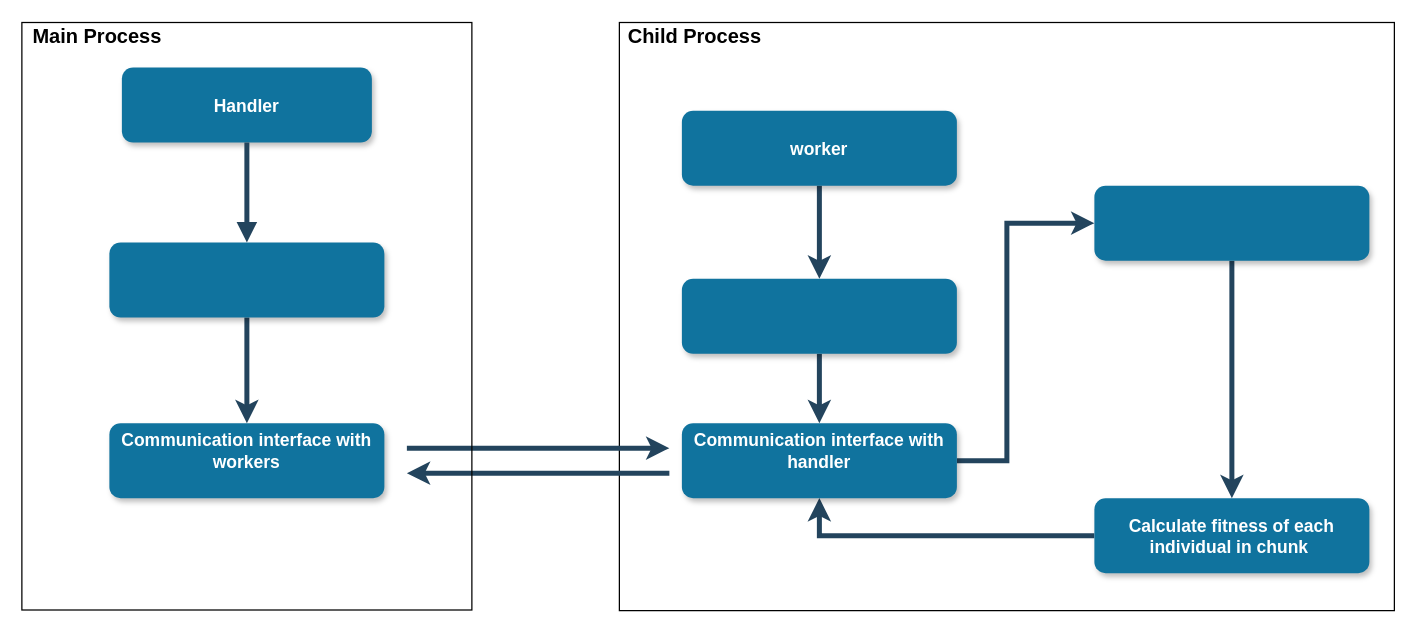
This 1416x633 diagram has some shape labels left out. The shapes that lost their labels are listed below. From the top down, each one's centre as x and y in pixels, then its label:
At (1232,224): "Wait for data".
At (247,281): "Divide the population into N chucks and create N workers".
At (820,317): "Initialization routine".
